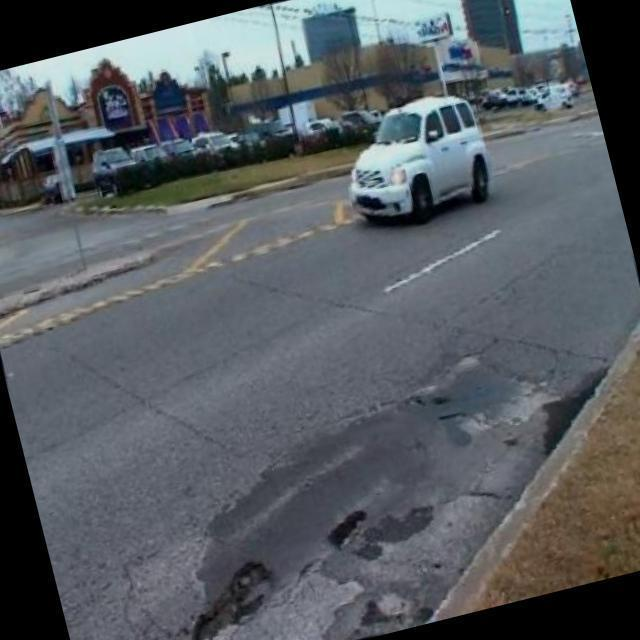Pothole: (193, 561, 269, 640), (328, 509, 368, 549)
